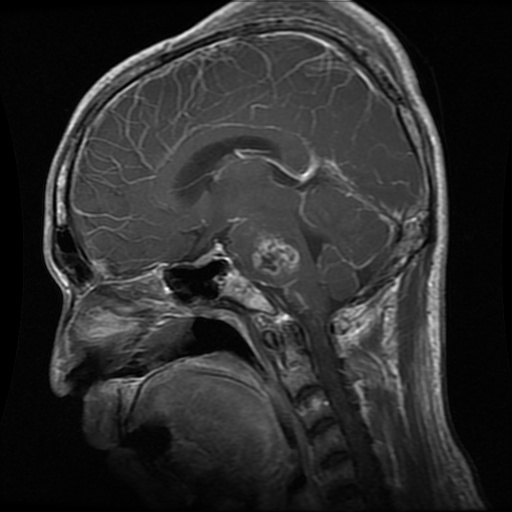glioma: (252, 231, 302, 278)
